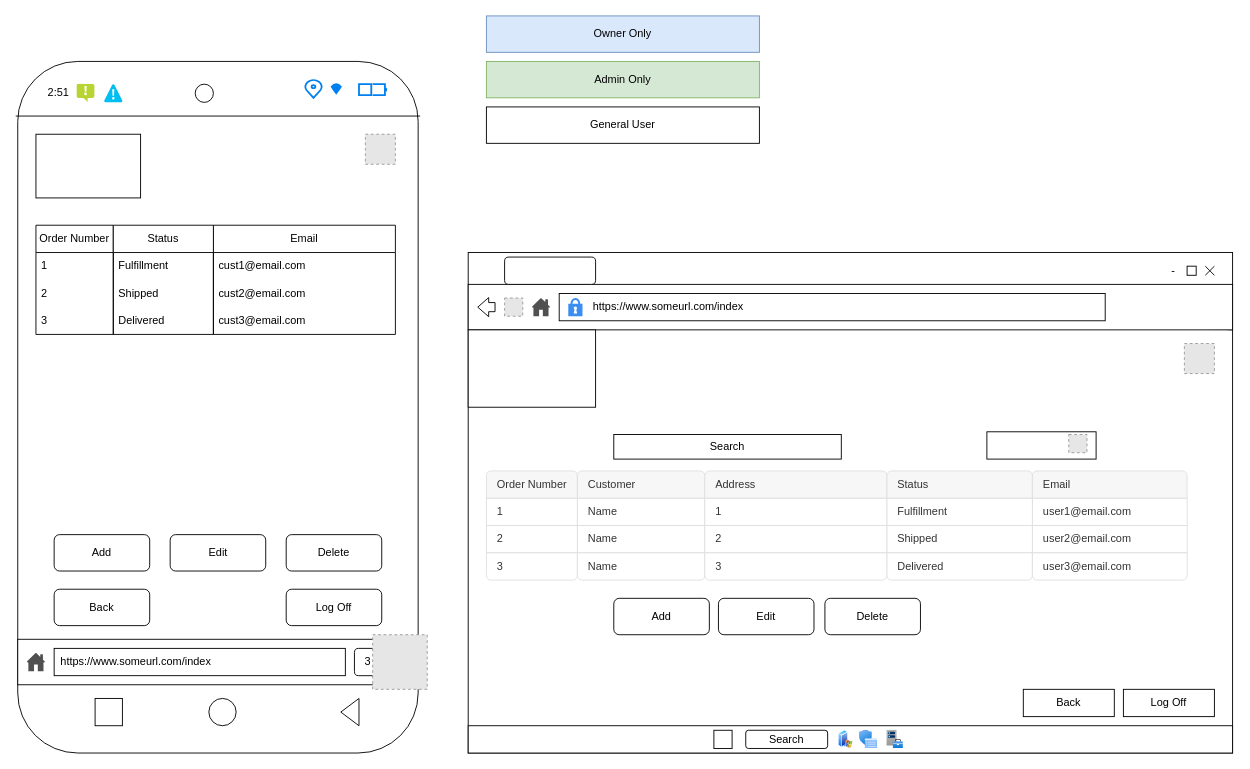
The diagram is 1250 pixels wide and 769 high, and some of its shapes have lost their labels. Grey dashed boxes stand in for pictures. Each missing label, with the box of its shape:
Company Logo: (467, 329, 596, 407)
Filters: (986, 431, 1096, 459)
Logo: (35, 133, 141, 198)
Tab: (504, 256, 596, 284)
